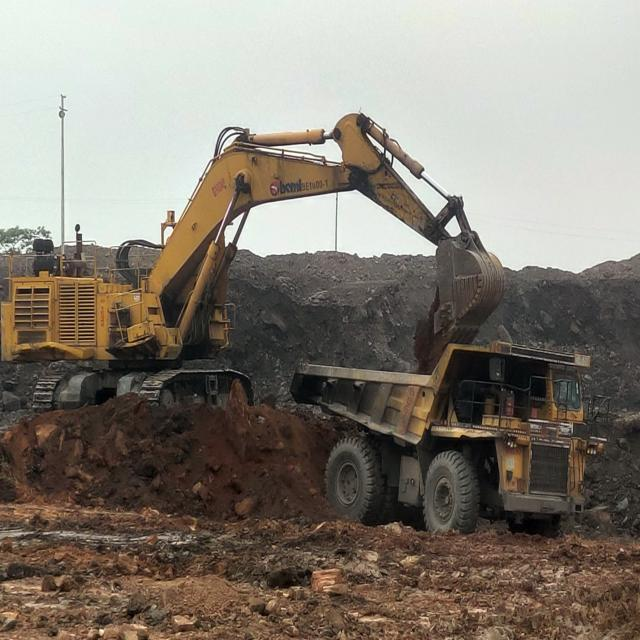dump_truck: (0, 113, 508, 419), (289, 345, 600, 536)
